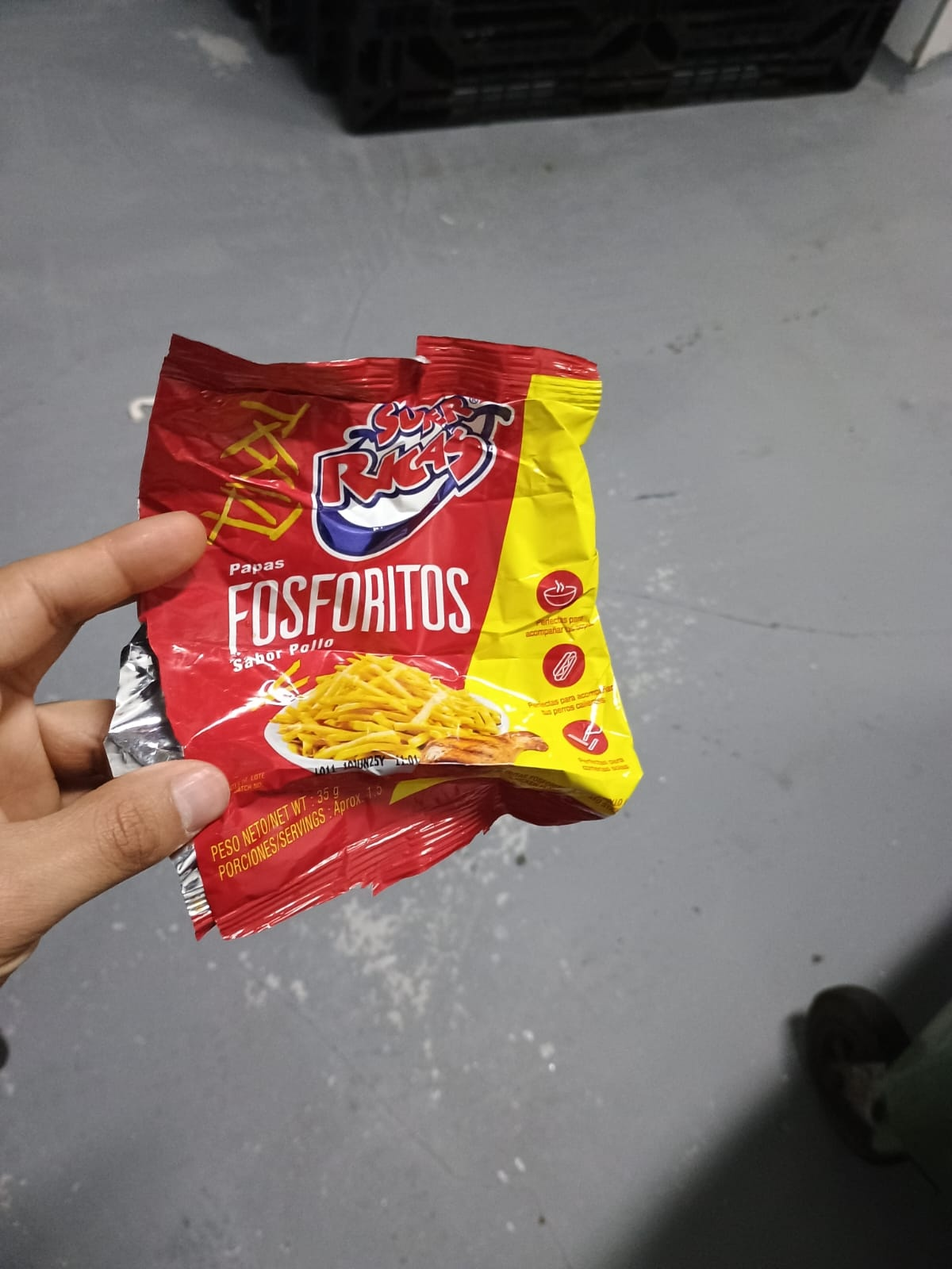Ordinario: (117, 336, 644, 942)
